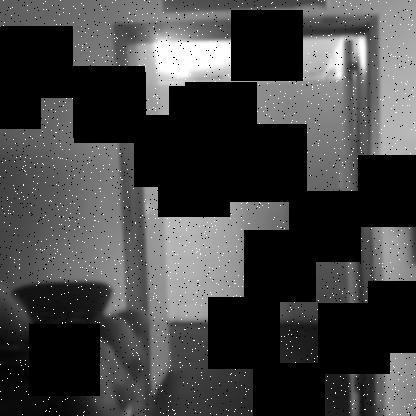Porte: (110, 15, 384, 415)
